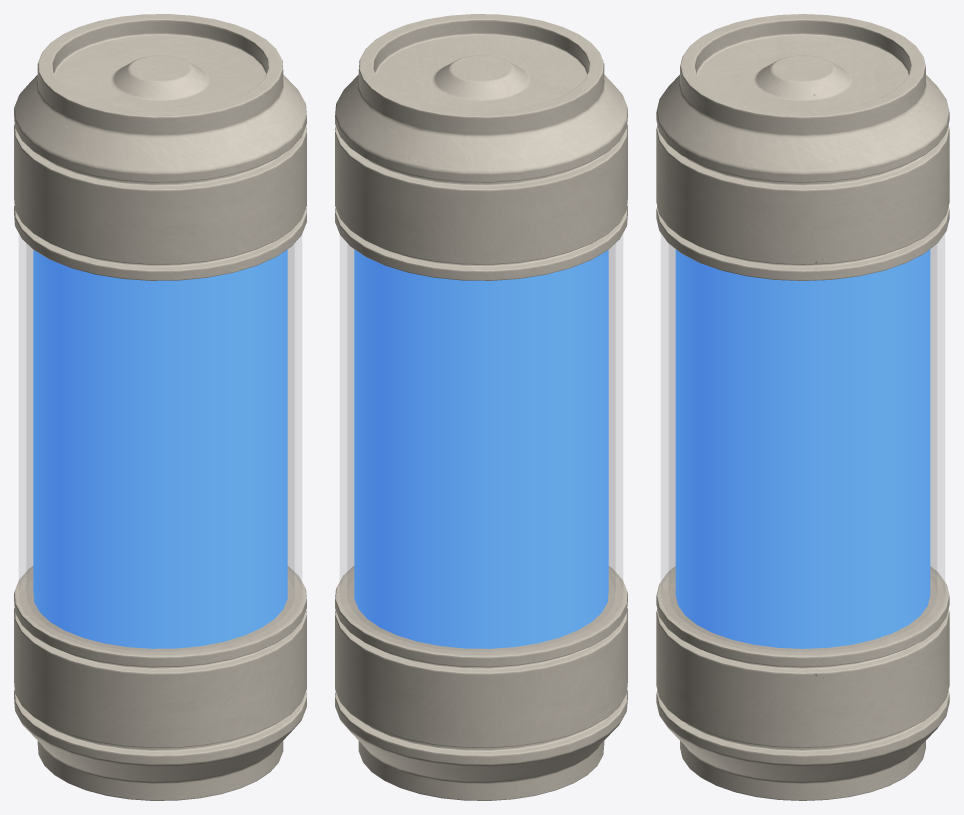
The model's file is Battery.fbx.
3 renders of one model, left to right at view 1: azimuth 30°, elevation 25°; view 2: azimuth 150°, elevation 25°; view 3: azimuth 270°, elevation 25°, orthographic.
Visible parts, largest first — view 1: Battery Main, Battery Glass, Battery Energy; view 2: Battery Main, Battery Glass, Battery Energy; view 3: Battery Main, Battery Glass, Battery Energy.
Part boxes in pixels (x1,y1,x2,y2): Battery Main: [14, 14, 306, 800]; Battery Glass: [19, 235, 301, 651]; Battery Energy: [33, 249, 287, 648]; Battery Main: [335, 14, 627, 800]; Battery Glass: [340, 235, 622, 651]; Battery Energy: [354, 249, 608, 648]; Battery Main: [656, 14, 949, 800]; Battery Glass: [661, 234, 944, 651]; Battery Energy: [675, 249, 930, 648].
Size of the model in its own units: 2.07 by 2.07 by 5.32.
